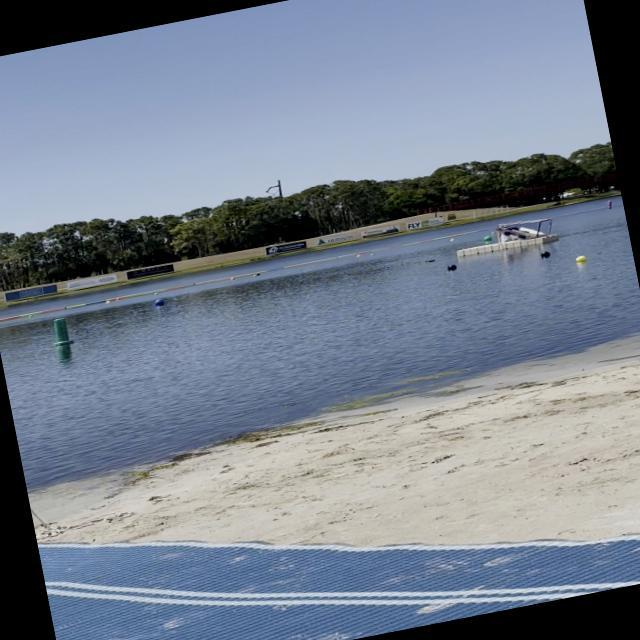buoy: (572, 252, 588, 264), (152, 298, 165, 306), (540, 250, 550, 258), (446, 262, 455, 270)
